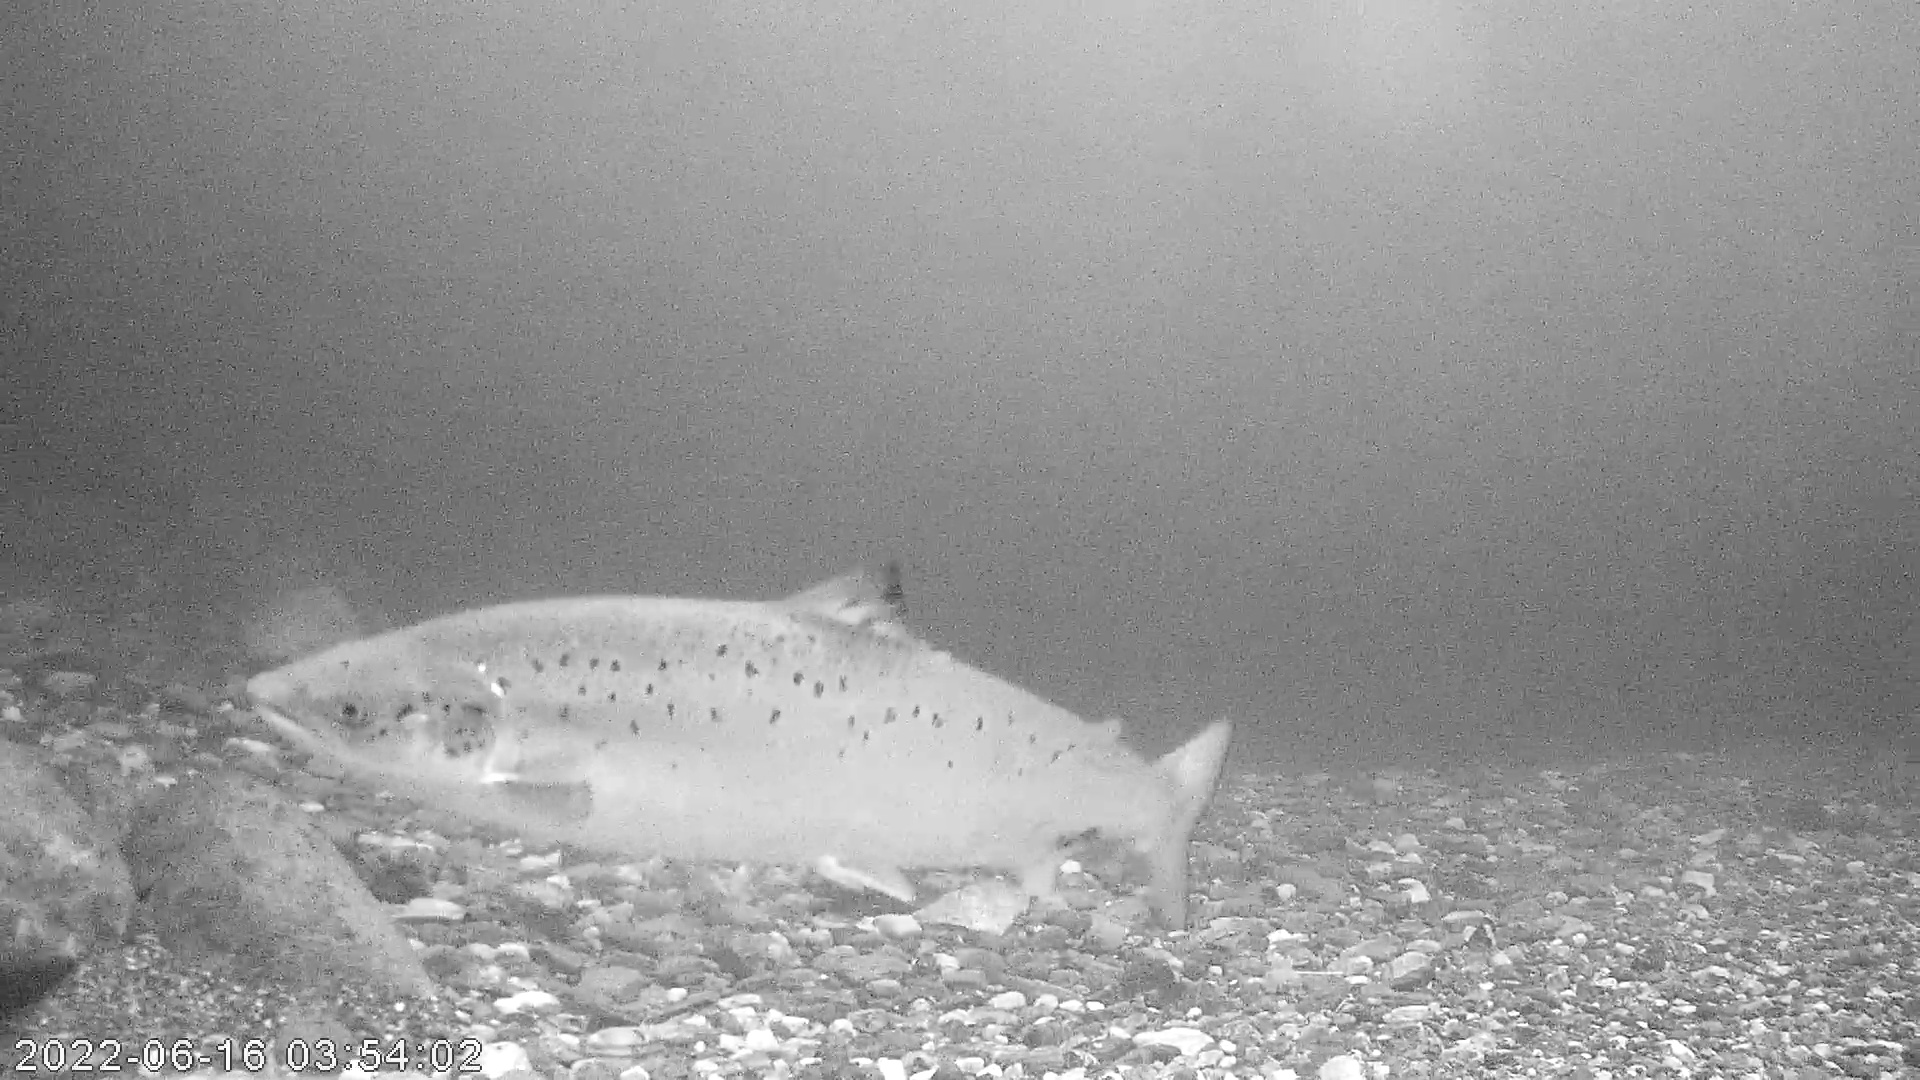salmon: (243, 556, 1236, 930)
